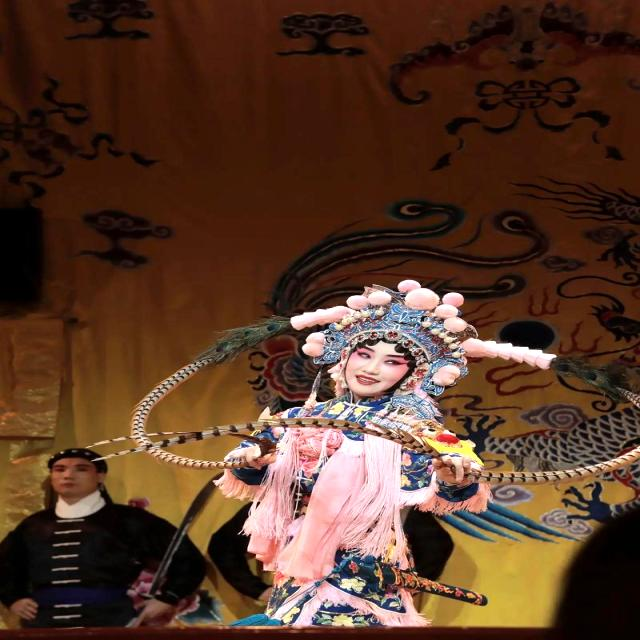Reeves-s Pheasant: (87, 318, 430, 470), (474, 446, 639, 483)
